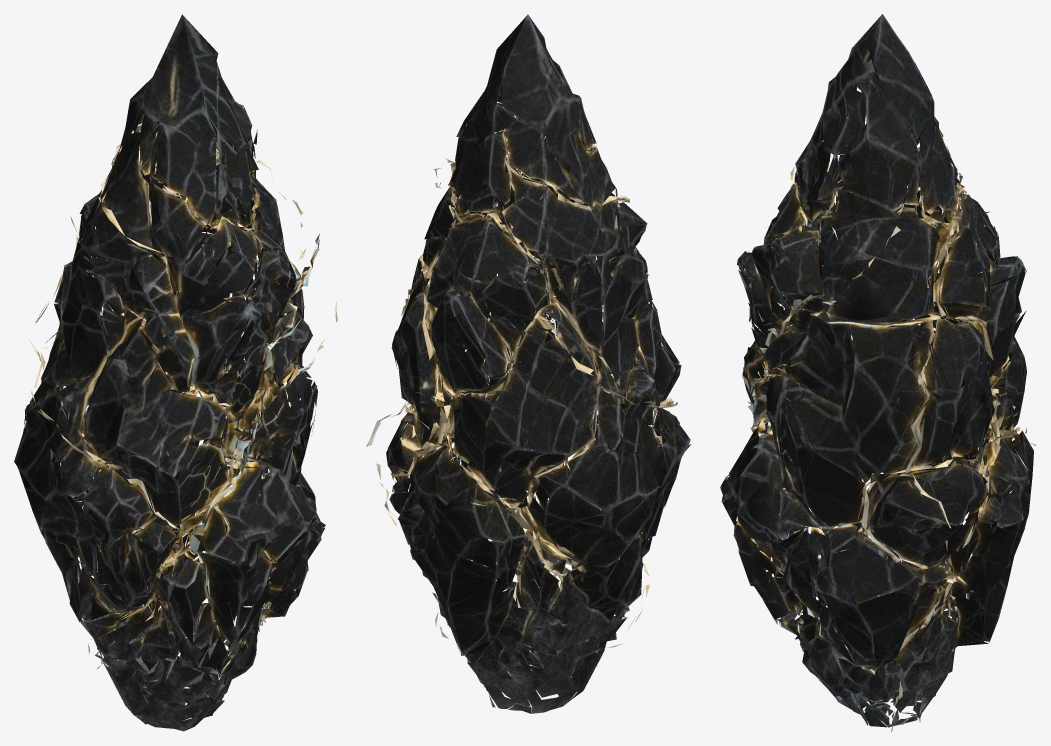
Rendered from thunderstone.glb.
The picture shows the model from 3 angles, left to right: view 1: azimuth 30°, elevation 25°; view 2: azimuth 150°, elevation 25°; view 3: azimuth 270°, elevation 25°; orthographic projection. The views are drawn at different scales.
Parts seen in each view (by area): view 1: Mesh_0; view 2: Mesh_0; view 3: Mesh_0.
Boxes of the visible parts, x1,y1,x2,y2 form: Mesh_0: (14,14,337,731); Mesh_0: (366,14,691,713); Mesh_0: (720,14,1035,731).
Bounding box in the file's own units: 0.3296 × 0.8083 × 0.3311.
Materials: 1 (1 with a texture image).
